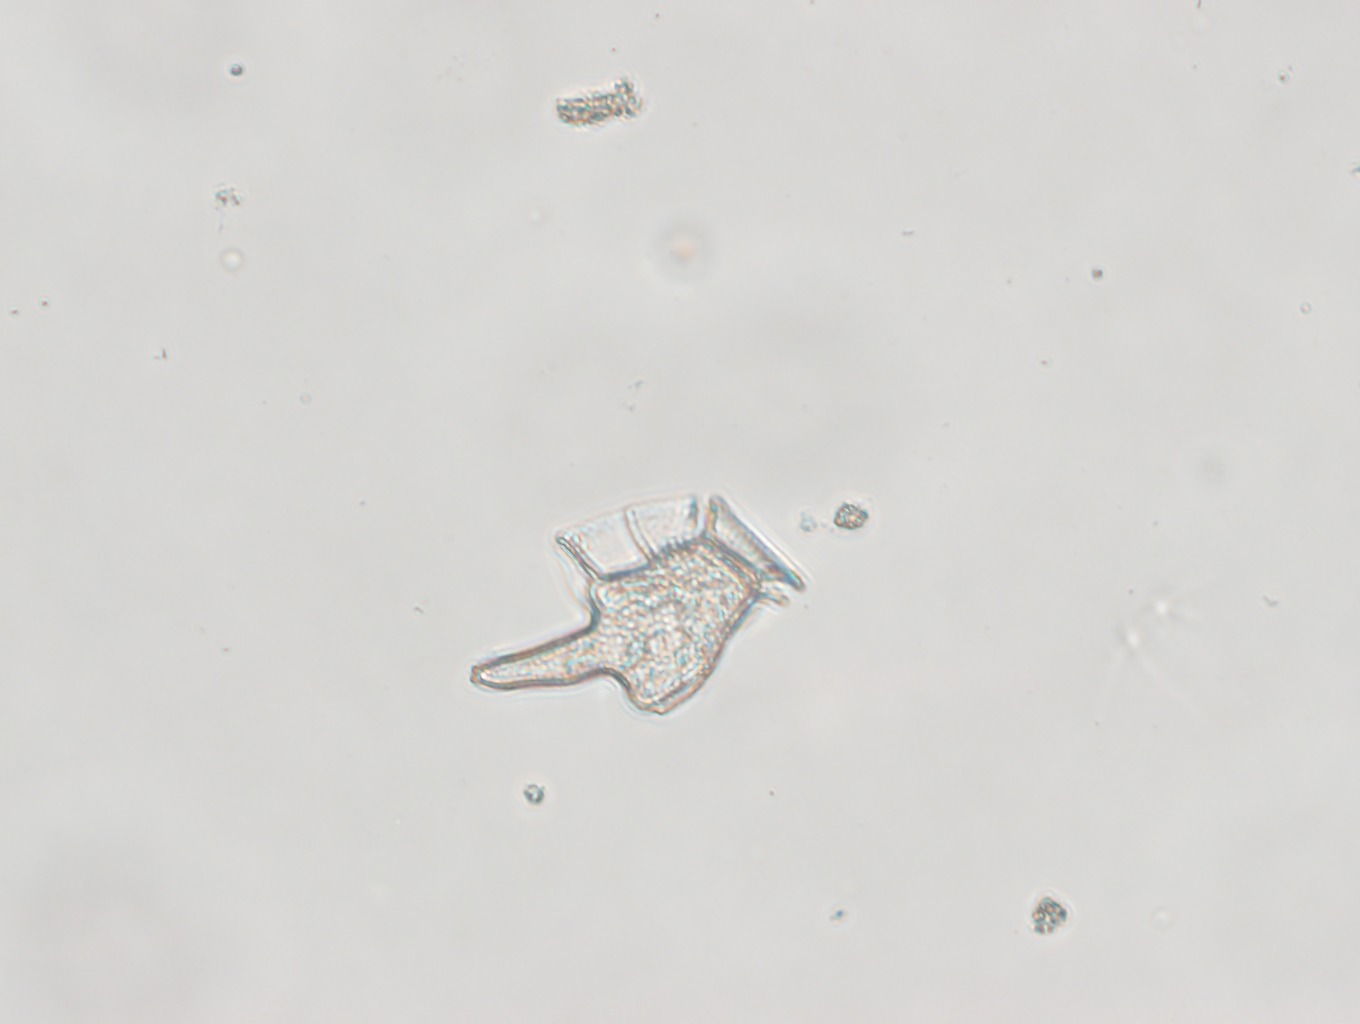dinophysis caudata: (468, 487, 810, 719)
